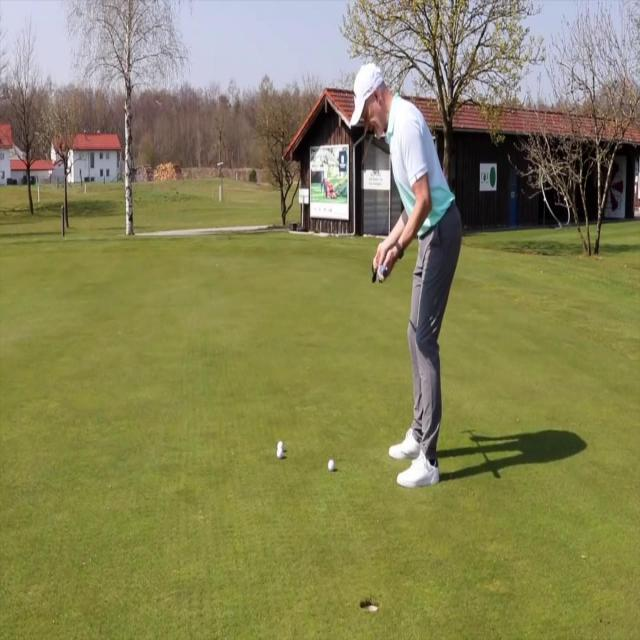GolfBall: (321, 454, 341, 476), (272, 440, 288, 452), (273, 448, 285, 460)
